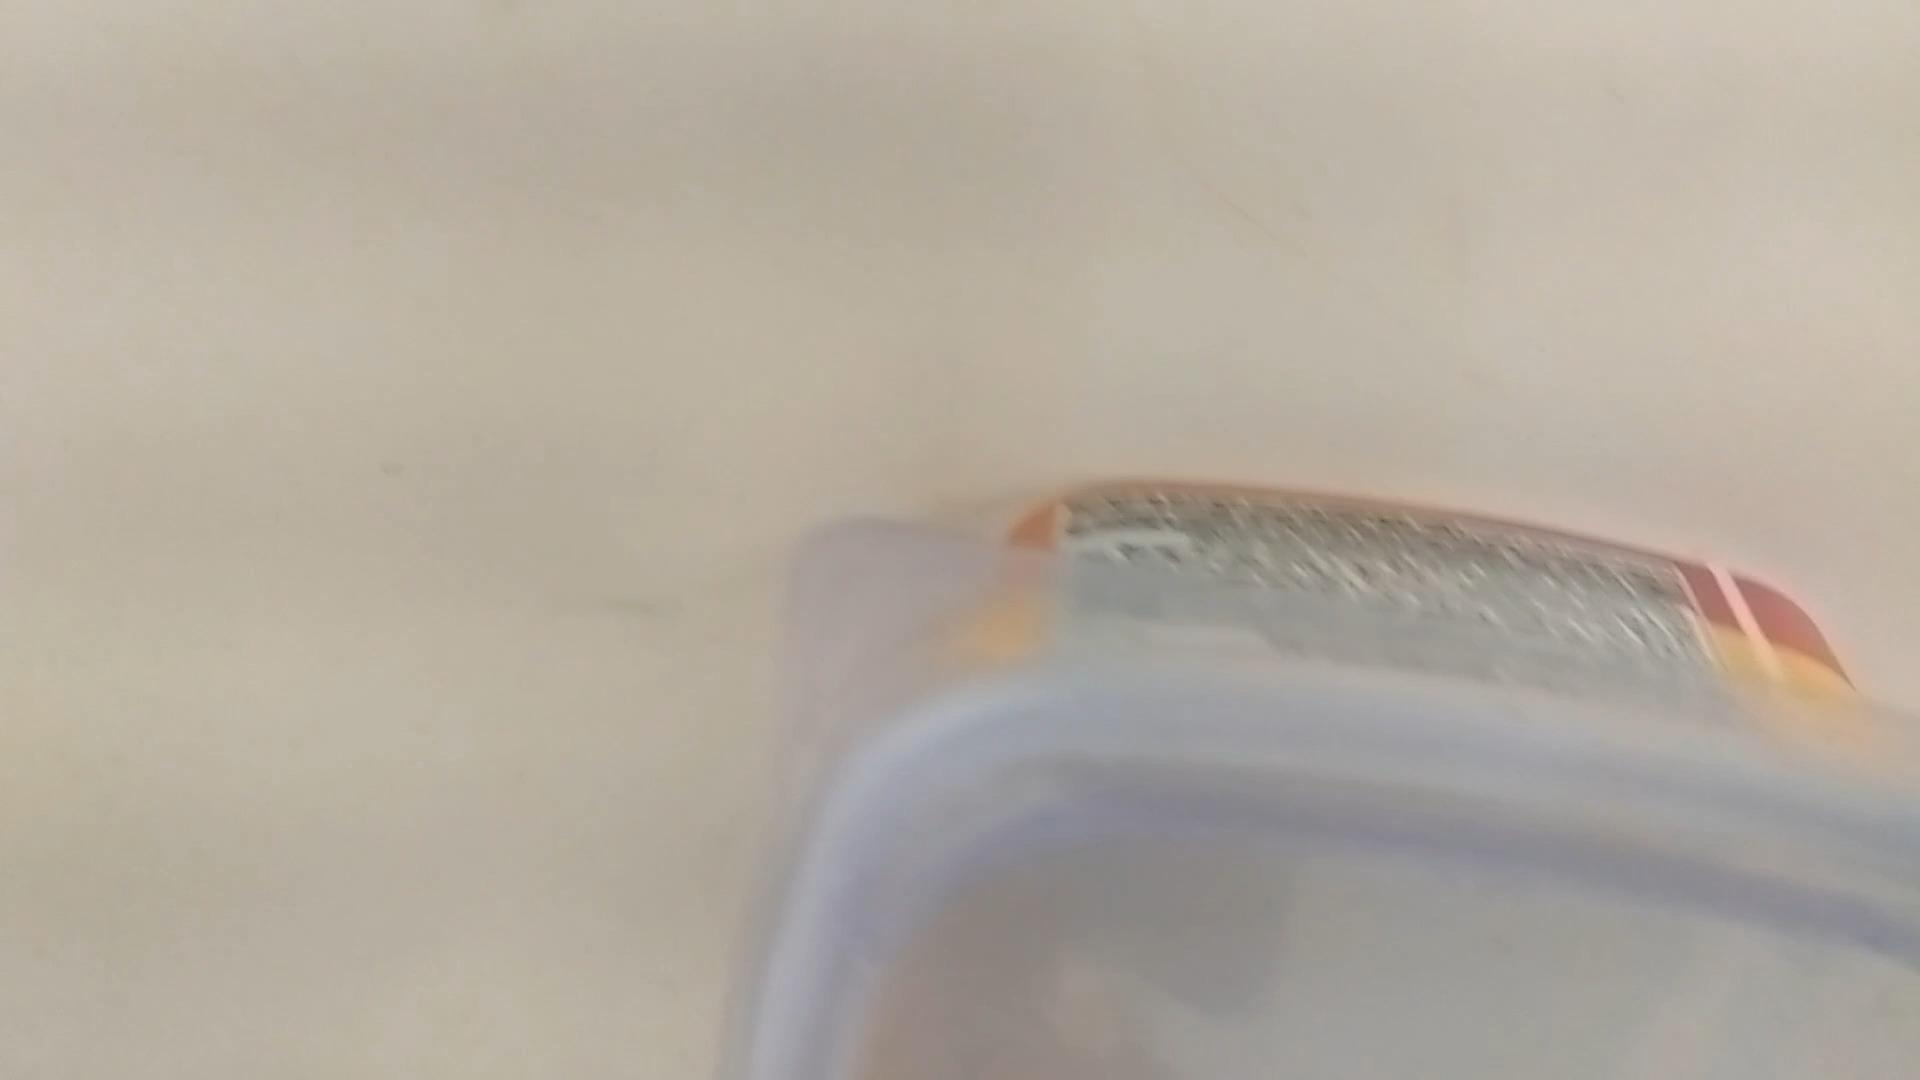butter: (735, 468, 1920, 1080)
